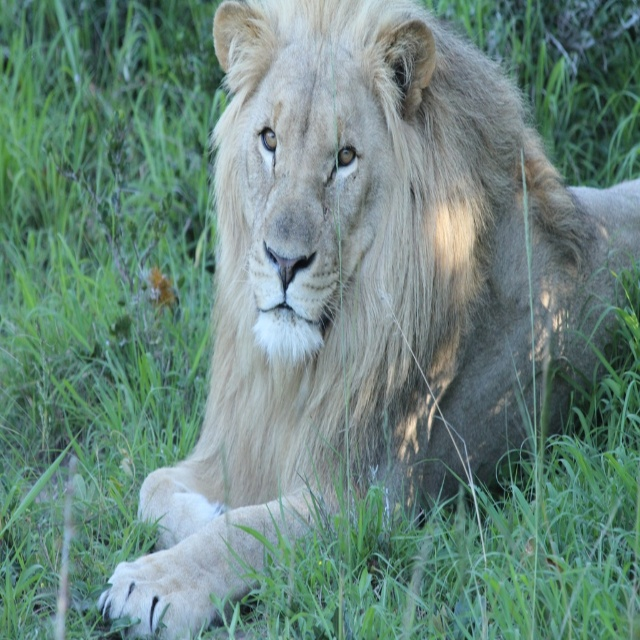Lion: (96, 0, 640, 640)
